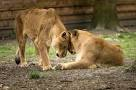lion: (14, 8, 66, 76), (65, 31, 126, 74)
